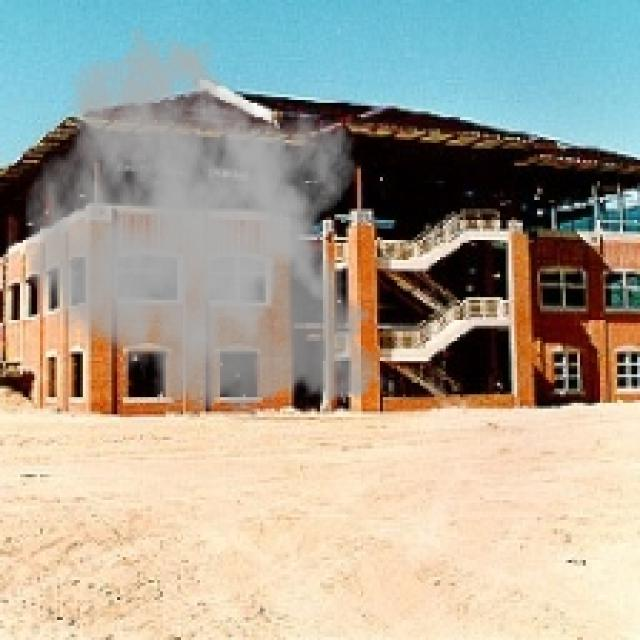smoke: (23, 23, 394, 426)
